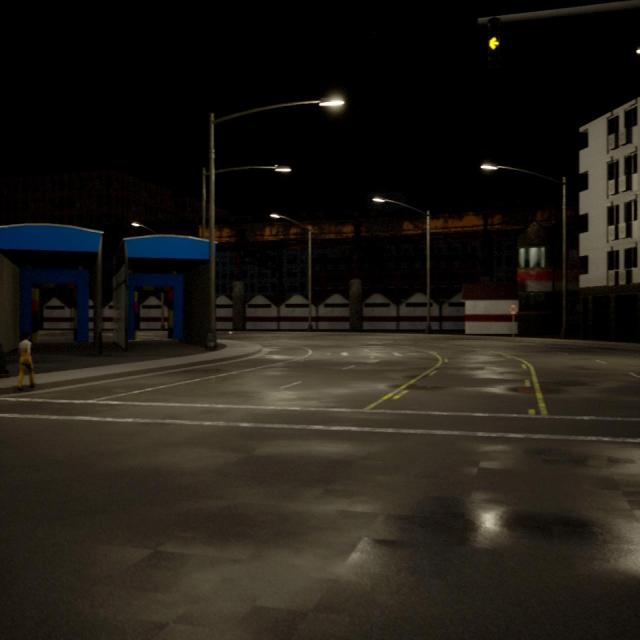Pedestrian: (17, 331, 35, 391)
Traffic_Signs: (509, 305, 517, 313)
traffic_light: (488, 18, 499, 57)
